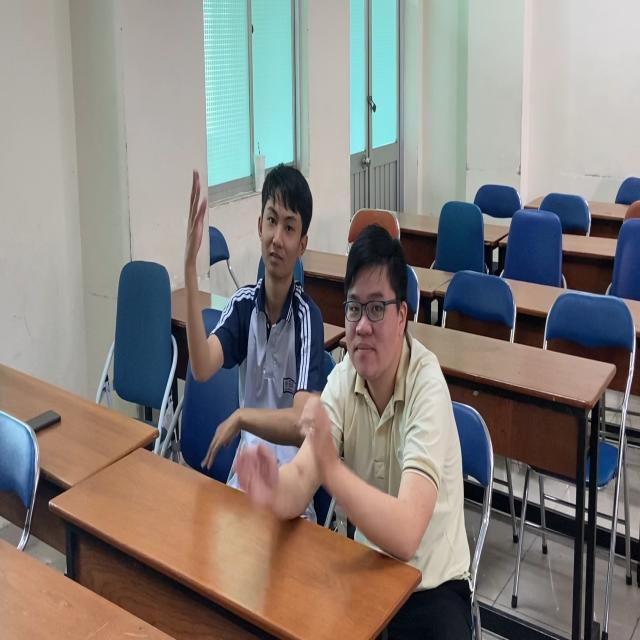raise_hand: (184, 146, 324, 527)
